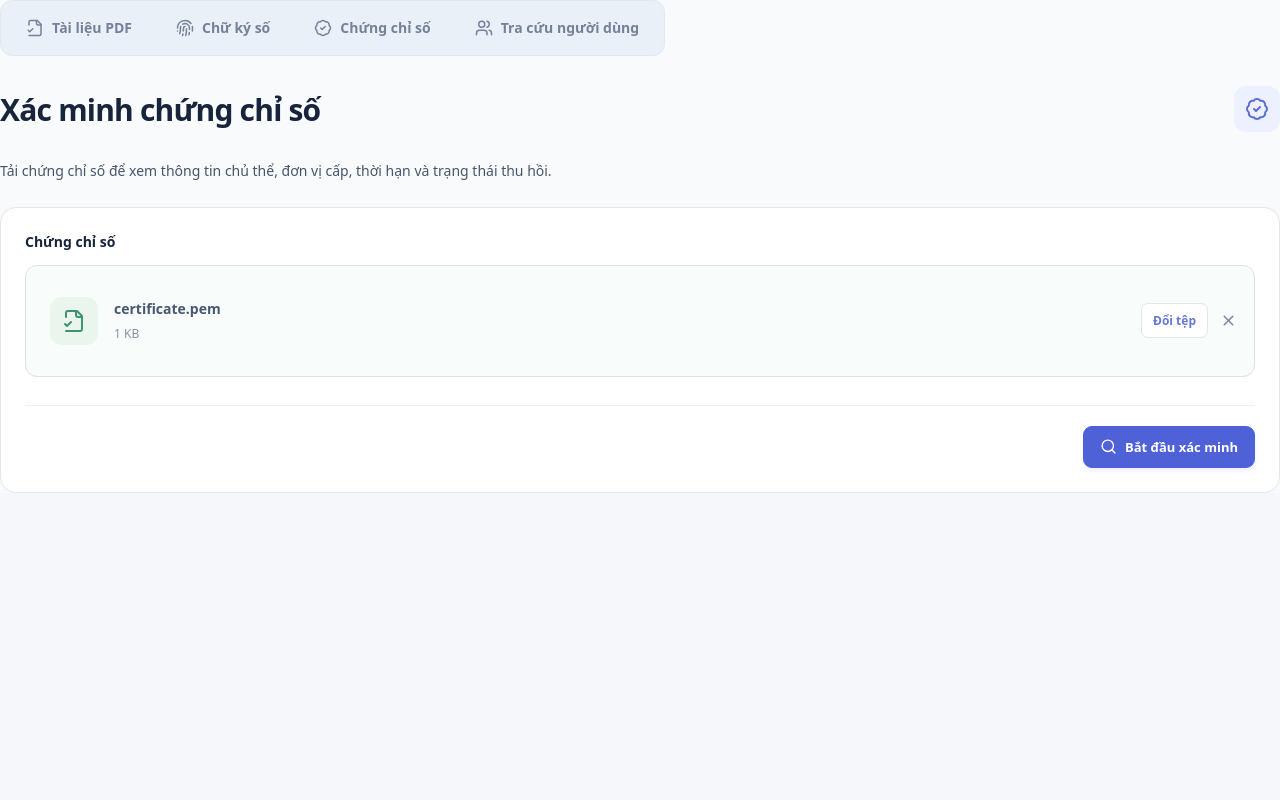
it: Certificate verification lifecycle › shows certificate information and clears the result when input changes
This screenshot has width=1280, height=800.
Earlier steps of the test are not shown.
Click the button "Bắt đầu xác minh" at (1169, 447), box top-left (1083, 426), bottom-right (1255, 468)
(page scrolled)
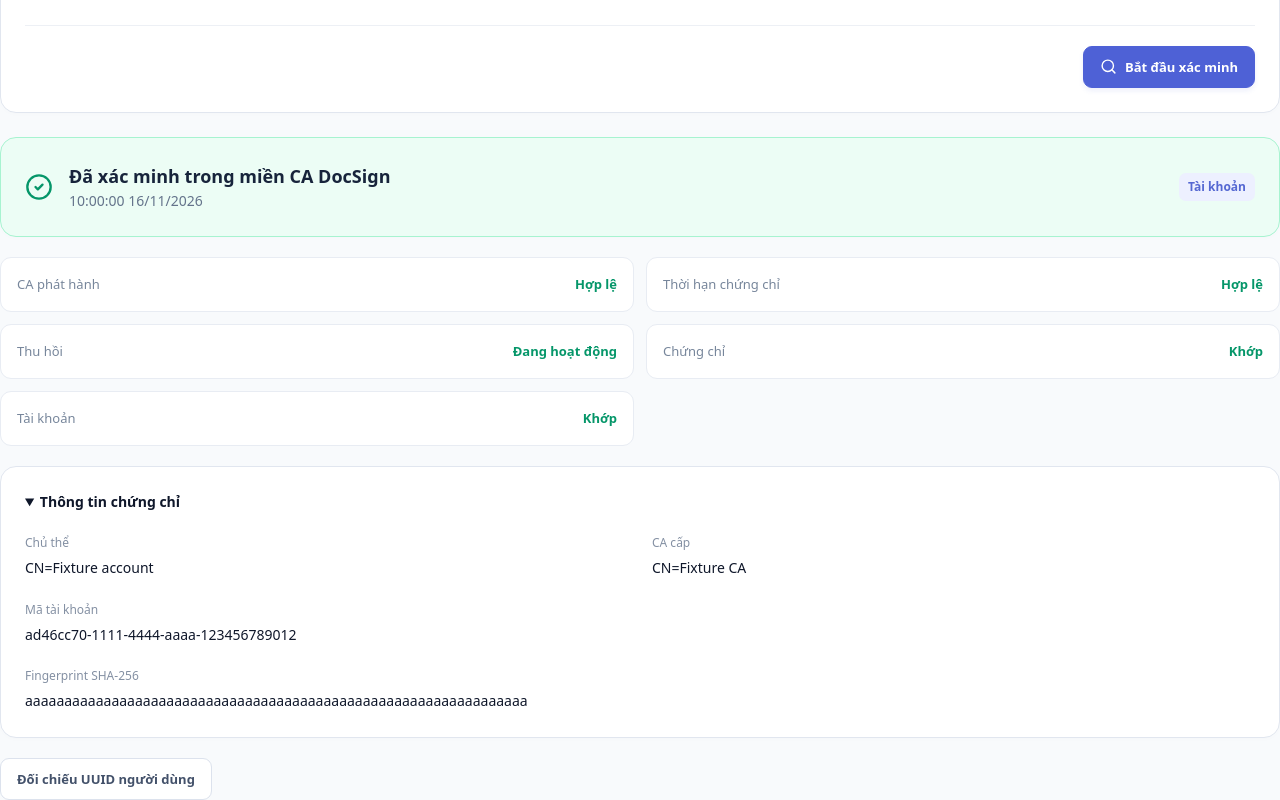
Result: the heading "Đã xác minh trong miền CA DocSign" is shown at top-left (69, 164), bottom-right (390, 188)
Result: the text "CN=Fixture account" is shown at top-left (25, 558), bottom-right (154, 577)
